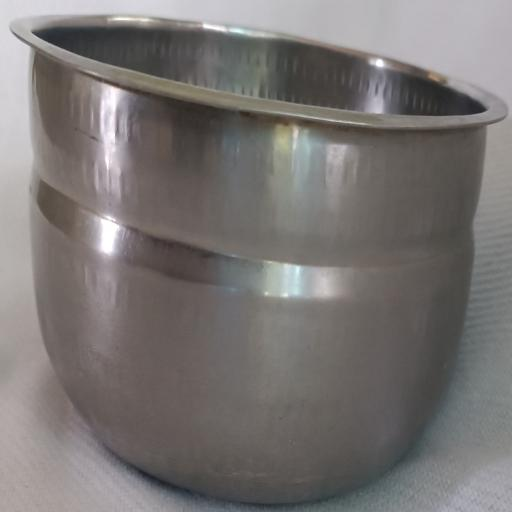vessel: (12, 16, 506, 503)
